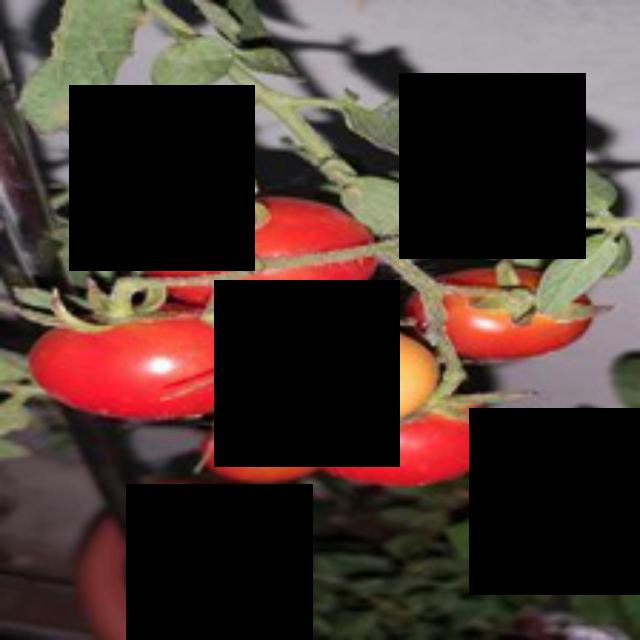tomato: (23, 306, 248, 416)
